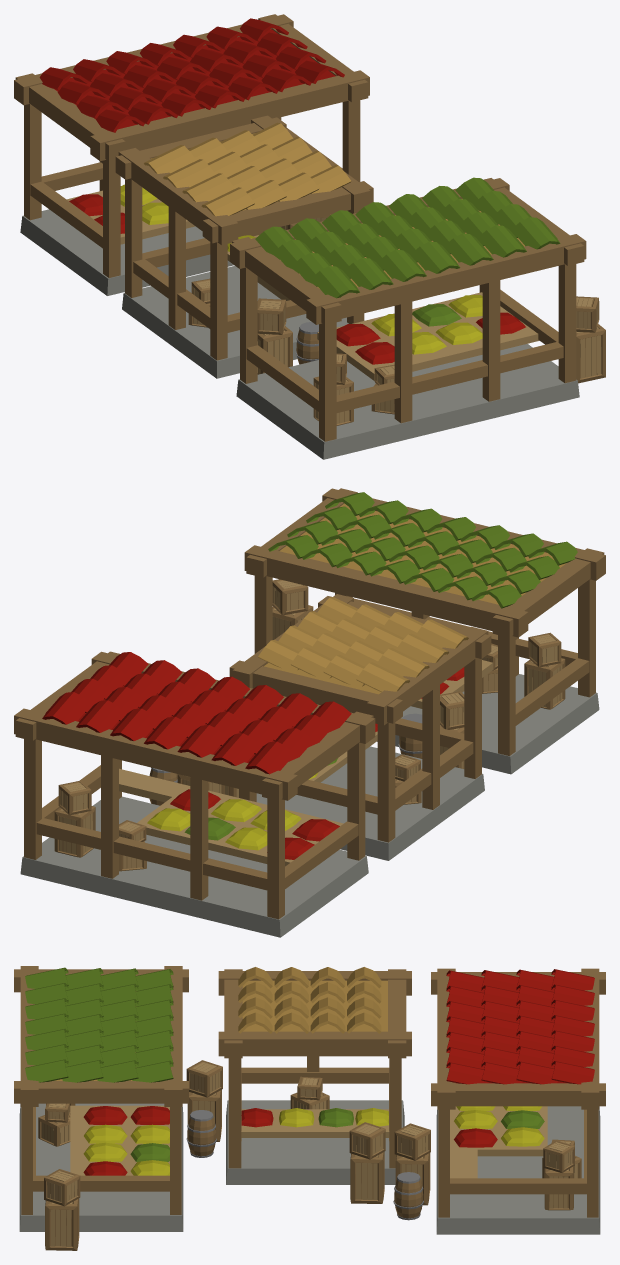
The model's file is stand3.glb.
3 views of the same model, one above another, from view 1: azimuth 30°, elevation 25°; view 2: azimuth 150°, elevation 25°; view 3: azimuth 270°, elevation 25° (orthographic). The views are drawn at different scales.
Visible parts, largest first — view 1: Market_SecondAge_Level3; view 2: Market_SecondAge_Level3; view 3: Market_SecondAge_Level3.
Boxes of the visible parts, x1=… form: Market_SecondAge_Level3: x1=14, y1=14, x2=605, y2=459; Market_SecondAge_Level3: x1=14, y1=488, x2=605, y2=937; Market_SecondAge_Level3: x1=14, y1=966, x2=605, y2=1250.
Size of the model in its own units: 1.11 by 0.5921 by 1.99.
